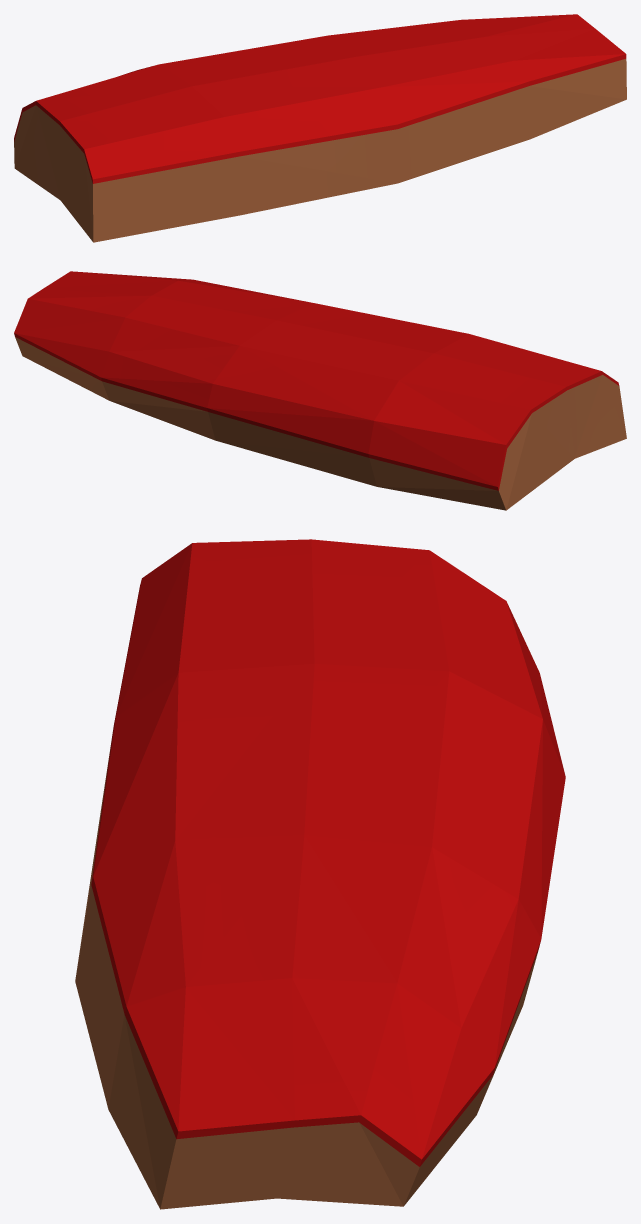
The model's file is FishFile.fbx.
3 renders of one model, top to bottom at view 1: azimuth 30°, elevation 25°; view 2: azimuth 150°, elevation 25°; view 3: azimuth 270°, elevation 25°, orthographic. The views are drawn at different scales.
Visible parts, largest first — view 1: Fish; view 2: Fish; view 3: Fish.
Boxes of the visible parts, <box> form: Fish: <box>14,14,626,242</box>; Fish: <box>14,271,626,510</box>; Fish: <box>75,539,565,1209</box>.
Bounding box in the file's own units: 11.33 × 1.81 × 4.43.
Materials: 1 (1 with a texture image).
